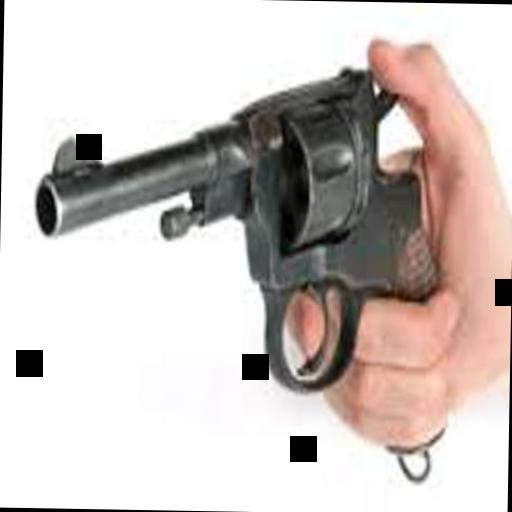Handgun: (30, 56, 456, 450)
